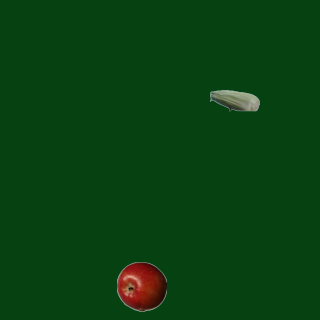Apple Braeburn: (116, 261, 166, 311)
Corn Husk: (209, 75, 259, 125)
